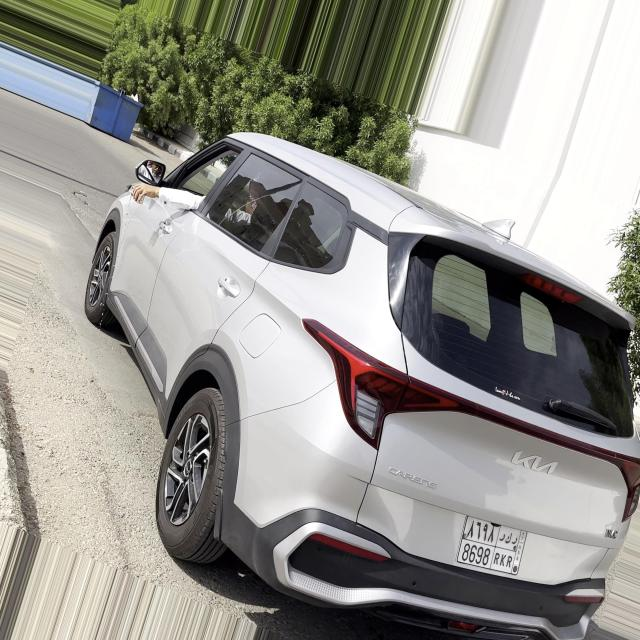Car-plate: (446, 493, 530, 582)
